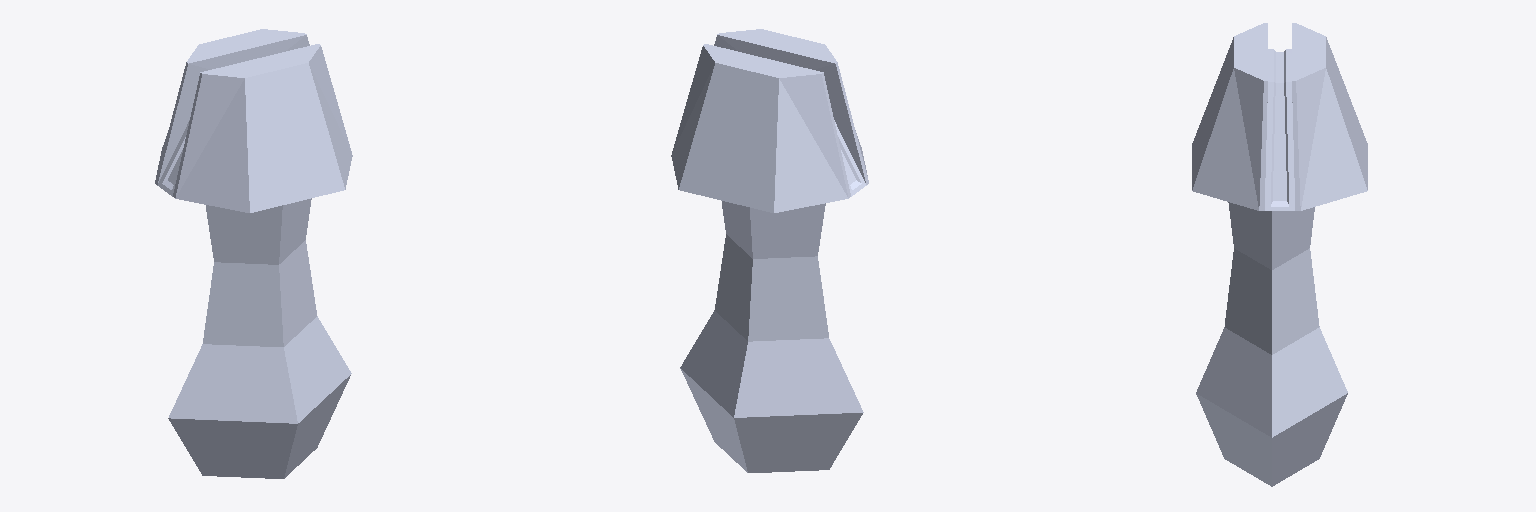
Rendered from Glue.obj.
The picture shows the model from 3 angles: view 1: azimuth 30°, elevation 25°; view 2: azimuth 150°, elevation 25°; view 3: azimuth 270°, elevation 25°; orthographic projection.
Parts seen in each view (by area): view 1: mergedBlocks; view 2: mergedBlocks; view 3: mergedBlocks.
Part boxes in pixels (x1,y1,x2,y2): mergedBlocks: (155, 29, 352, 478); mergedBlocks: (671, 29, 868, 472); mergedBlocks: (1192, 23, 1367, 486).
Bounding box in the file's own units: 0.7954 × 1.68 × 0.6602.